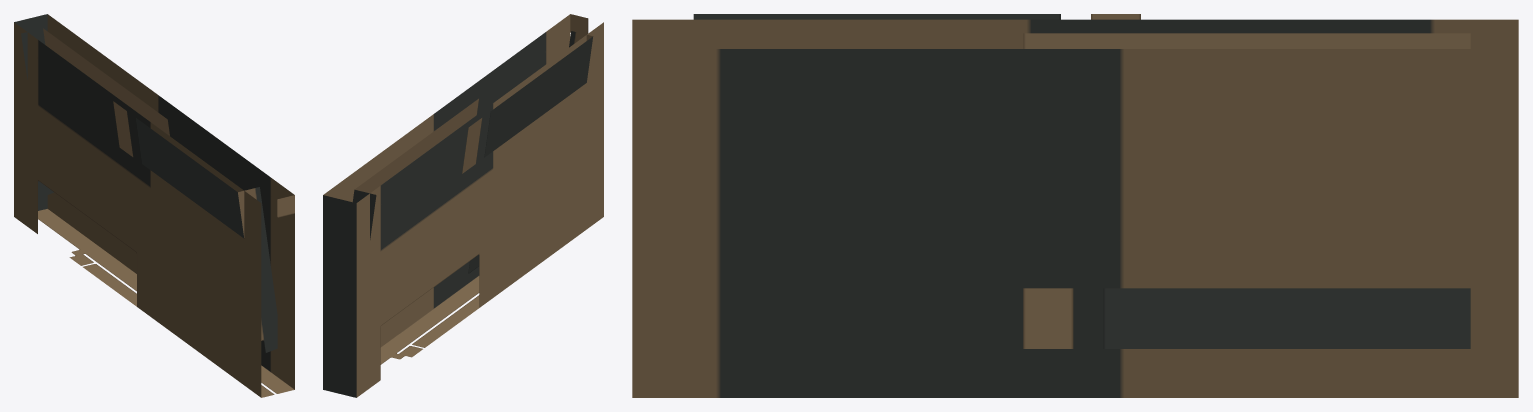
The model's file is section-5.obj.
The picture shows the model from 3 angles, left to right: view 1: azimuth 30°, elevation 25°; view 2: azimuth 150°, elevation 25°; view 3: azimuth 270°, elevation 25°; orthographic projection. The views are drawn at different scales.
Size of the model in its own units: 0.0765 by 0.3219 by 0.7411.
